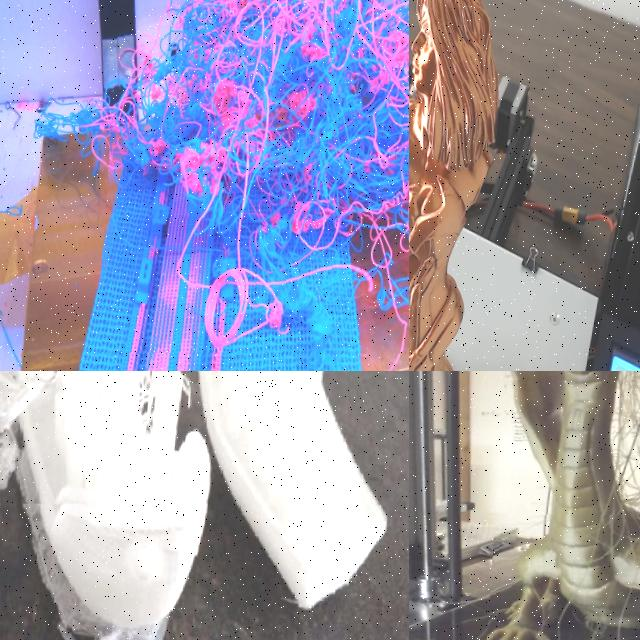spaghetti: (512, 371, 640, 640), (0, 371, 140, 522)
